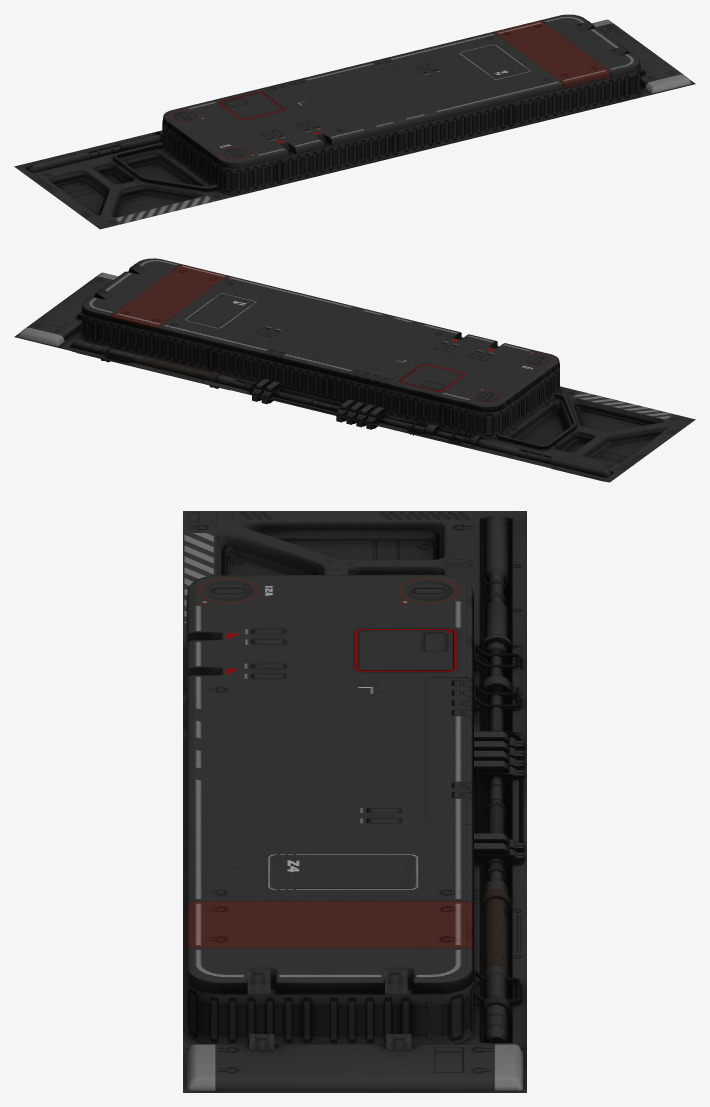
The model's file is Panel_A_4x1_Fick.FBX.
3 views of the same model, one above another, from view 1: azimuth 30°, elevation 25°; view 2: azimuth 150°, elevation 25°; view 3: azimuth 270°, elevation 25° (orthographic). The views are drawn at different scales.
Parts seen in each view (by area): view 1: Panel_A_4x1_Fick; view 2: Panel_A_4x1_Fick; view 3: Panel_A_4x1_Fick.
Part boxes in pixels (left/top/right/bottom): Panel_A_4x1_Fick: left=14, top=14, right=695, bottom=229; Panel_A_4x1_Fick: left=14, top=258, right=695, bottom=482; Panel_A_4x1_Fick: left=183, top=511, right=526, bottom=1092.
Size of the model in its own units: 400 by 28.23 by 100.
